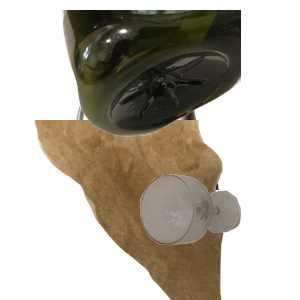glass: (138, 172, 300, 300)
metal: (73, 34, 285, 214)
plastic: (60, 10, 300, 139)
trash: (32, 120, 248, 300)
